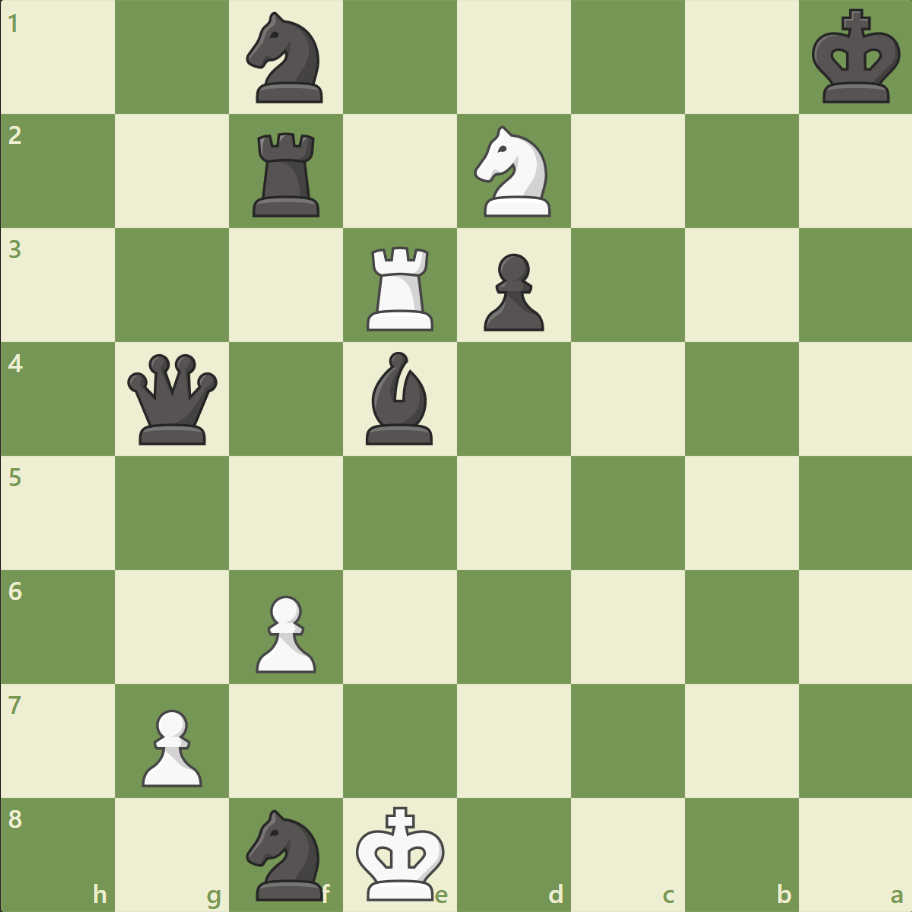K: (351, 798, 451, 906)
N: (465, 121, 562, 223)
P: (133, 700, 208, 791), (247, 586, 322, 677)
R: (360, 239, 442, 336)
b: (358, 347, 442, 449)
k: (806, 4, 906, 112)
n: (238, 7, 335, 110), (238, 802, 335, 904)
p: (474, 246, 549, 337)
q: (124, 349, 223, 449)
r: (246, 125, 329, 222)
